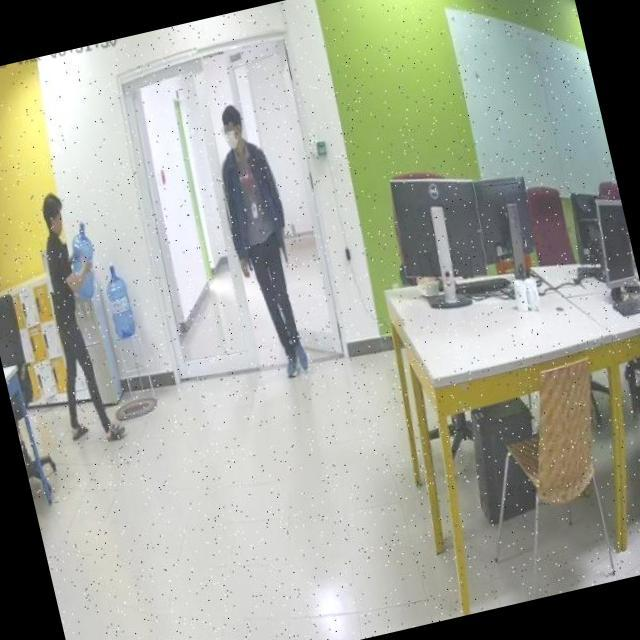person: (198, 96, 324, 383), (18, 187, 134, 449)
